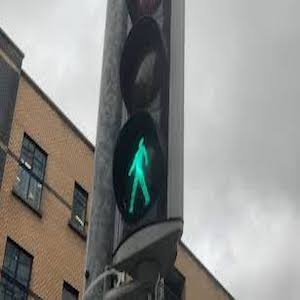green: (123, 136, 152, 212)
